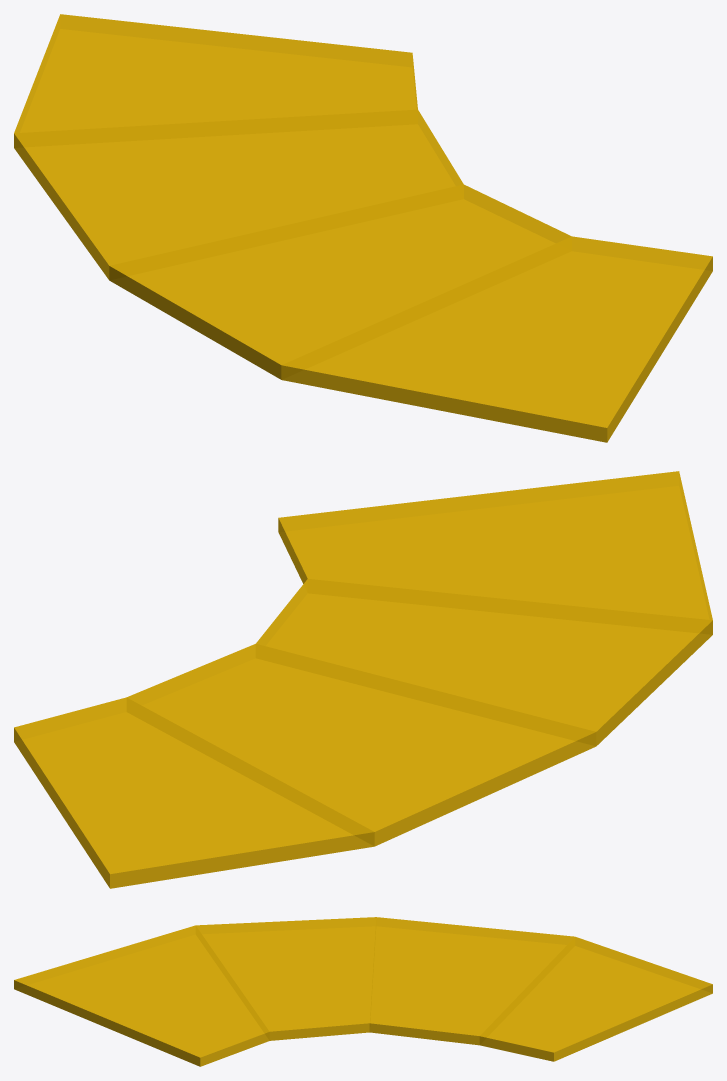
The model's file is SM_Bld_Dock_Round_01_Collision.fbx.
3 views of the same model, one above another, from view 1: azimuth 30°, elevation 25°; view 2: azimuth 150°, elevation 25°; view 3: azimuth 270°, elevation 25° (orthographic). The views are drawn at different scales.
Parts seen in each view (by area): view 1: SM_Bld_Dock_Round_01_Collision; view 2: SM_Bld_Dock_Round_01_Collision; view 3: SM_Bld_Dock_Round_01_Collision.
Boxes of the visible parts, left/top/right/bottom form: SM_Bld_Dock_Round_01_Collision: left=14, top=14, right=712, bottom=442; SM_Bld_Dock_Round_01_Collision: left=14, top=471, right=712, bottom=888; SM_Bld_Dock_Round_01_Collision: left=14, top=917, right=712, bottom=1066.
Size of the model in its own units: 362 by 11.05 by 761.
